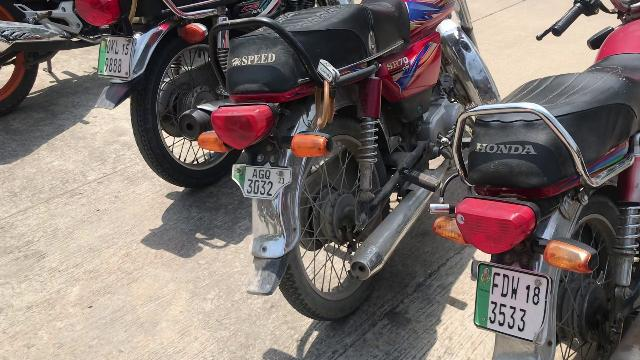plate: (466, 256, 556, 344)
